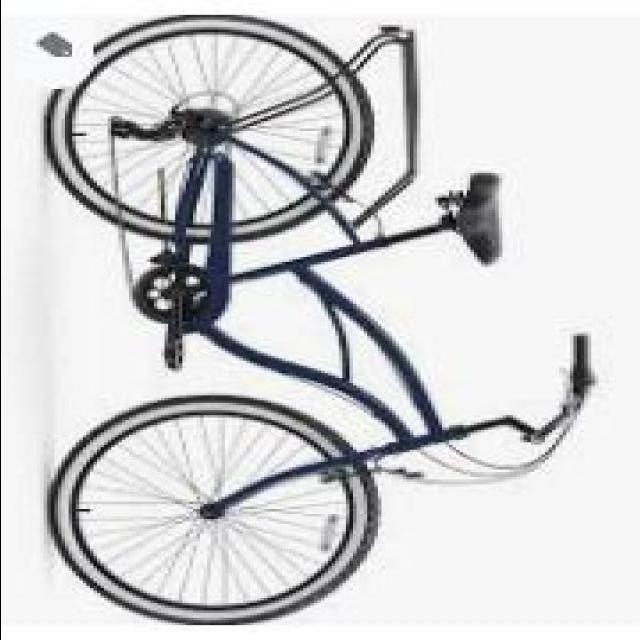bicycle: (43, 6, 555, 624)
